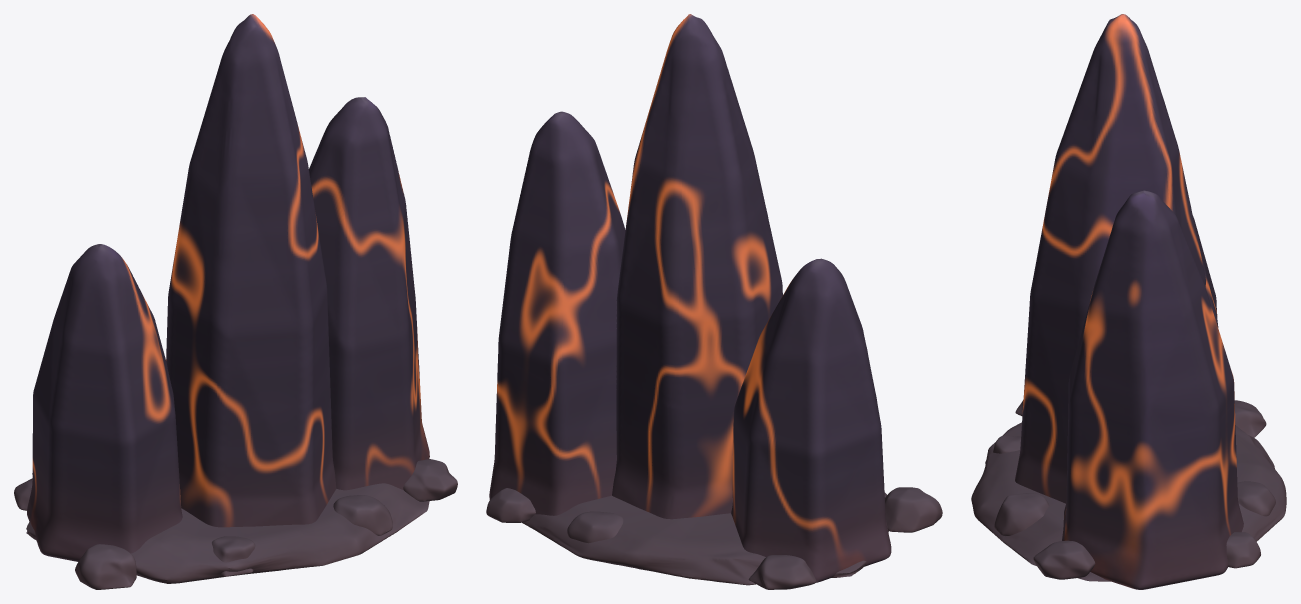
The model's file is EF_B03_ObsidianSpires.fbx.
3 renders of one model, left to right at view 1: azimuth 30°, elevation 25°; view 2: azimuth 150°, elevation 25°; view 3: azimuth 270°, elevation 25°, orthographic.
Visible parts, largest first — view 1: Spires_LOD0, Base_LOD0, Rock_LOD0; view 2: Spires_LOD0, Base_LOD0, Rock_LOD0; view 3: Spires_LOD0, Base_LOD0, Rock_LOD0.
Part boxes in pixels (x1,y1,x2,y2): Spires_LOD0: (27, 14, 429, 561); Base_LOD0: (26, 483, 429, 583); Rock_LOD0: (14, 459, 457, 589); Spires_LOD0: (489, 14, 891, 582); Base_LOD0: (522, 492, 888, 585); Rock_LOD0: (486, 487, 942, 589); Spires_LOD0: (1015, 14, 1243, 589); Base_LOD0: (971, 422, 1286, 581); Rock_LOD0: (985, 399, 1275, 579).
Size of what is drawn, in the model's own units: 20 by 24 by 14.
